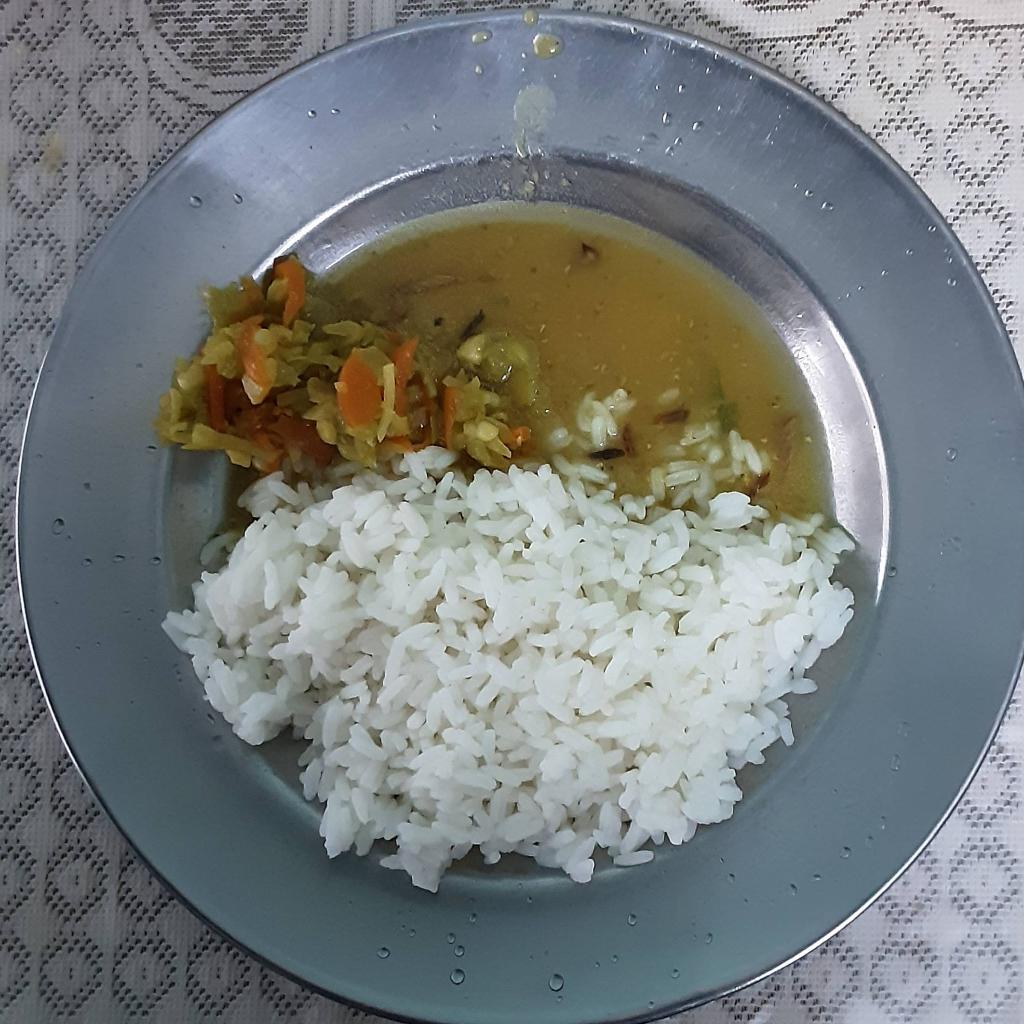daal: (325, 200, 832, 516)
rice: (158, 459, 852, 884)
vegetable: (160, 257, 542, 474)
